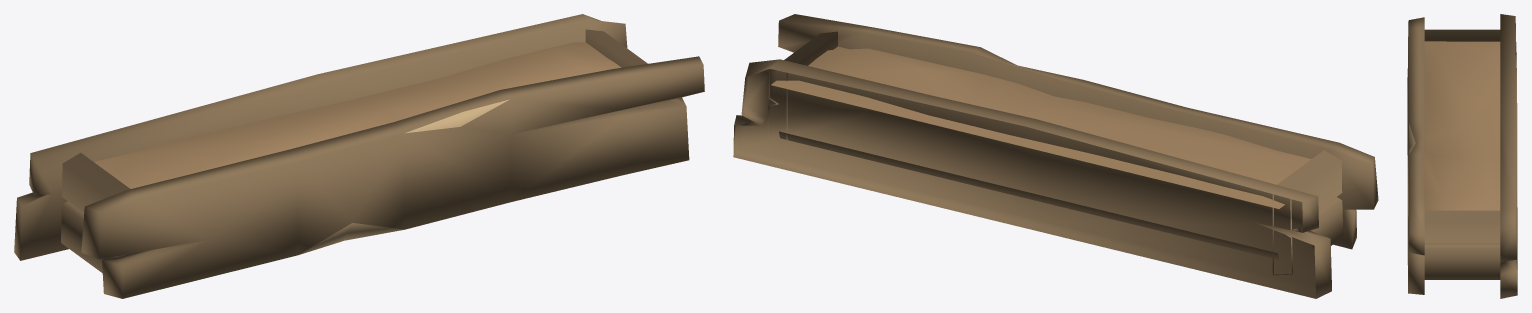
File: rpgpp_ag_flower_box_window_01a.fbx
3 renders of one model, left to right at view 1: azimuth 30°, elevation 25°; view 2: azimuth 150°, elevation 25°; view 3: azimuth 270°, elevation 25°, orthographic. The views are drawn at different scales.
Visible parts, largest first — view 1: rpgpp_ag_flower_box_window_01a; view 2: rpgpp_ag_flower_box_window_01a; view 3: rpgpp_ag_flower_box_window_01a.
Part boxes in pixels (x1,y1,x2,y2): rpgpp_ag_flower_box_window_01a: (14,14,704,298); rpgpp_ag_flower_box_window_01a: (733,14,1378,298); rpgpp_ag_flower_box_window_01a: (1407,14,1517,298).
Bounding box in the file's own units: 1.68 × 0.2755 × 0.353.
